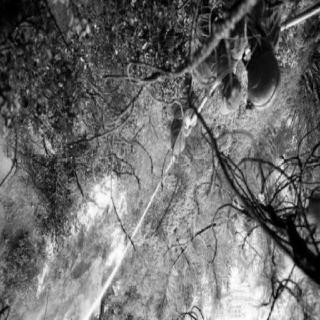other: (200, 5, 284, 124), (159, 73, 195, 169)
